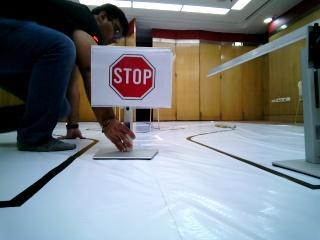stop: (93, 50, 172, 109)
